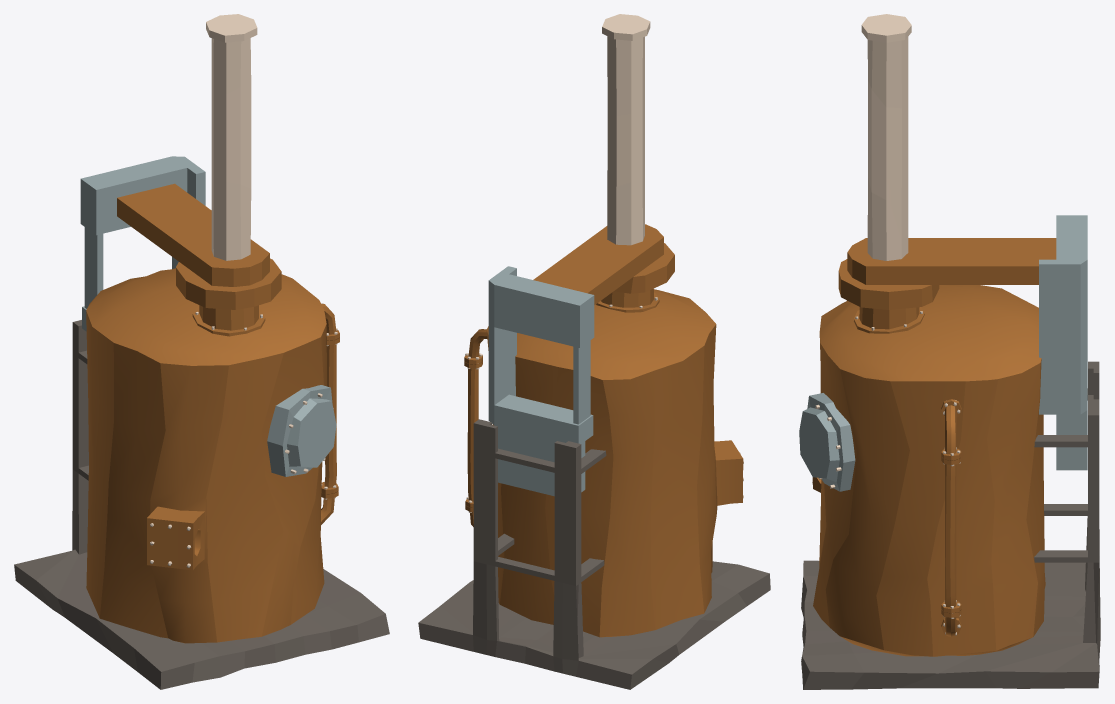
Rendered from Boiler.fbx.
The picture shows the model from 3 angles, left to right: view 1: azimuth 30°, elevation 25°; view 2: azimuth 150°, elevation 25°; view 3: azimuth 270°, elevation 25°; orthographic projection. The views are drawn at different scales.
Visible parts, largest first — view 1: Boiler; view 2: Boiler; view 3: Boiler.
Boxes of the visible parts, x1=… form: Boiler: x1=14, y1=14, x2=389, y2=689; Boiler: x1=418, y1=14, x2=770, y2=689; Boiler: x1=799, y1=14, x2=1100, y2=689.
Bounding box in the file's own units: 290 × 299 × 667.
